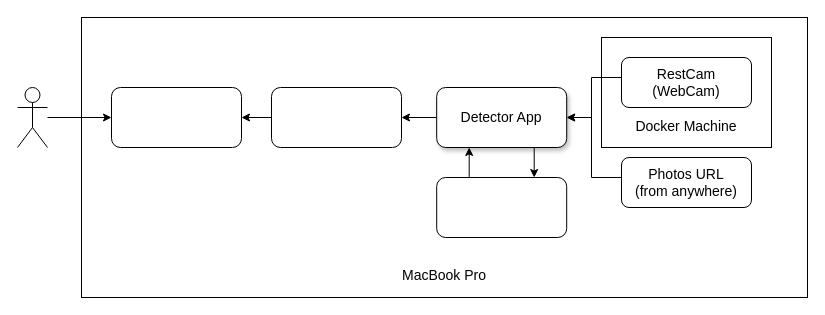
Image size: 825x315. Some labels were removed from this diagram. The centre of each missing label's shape, as x and y in pixels:
Detector Service: point 501,207
Monitor Web App: point 176,117
MQTT Broker: point 336,117
